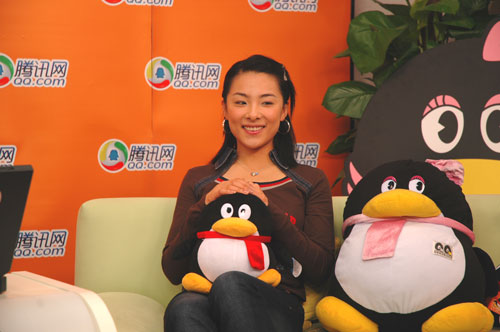other: (160, 53, 331, 332)
